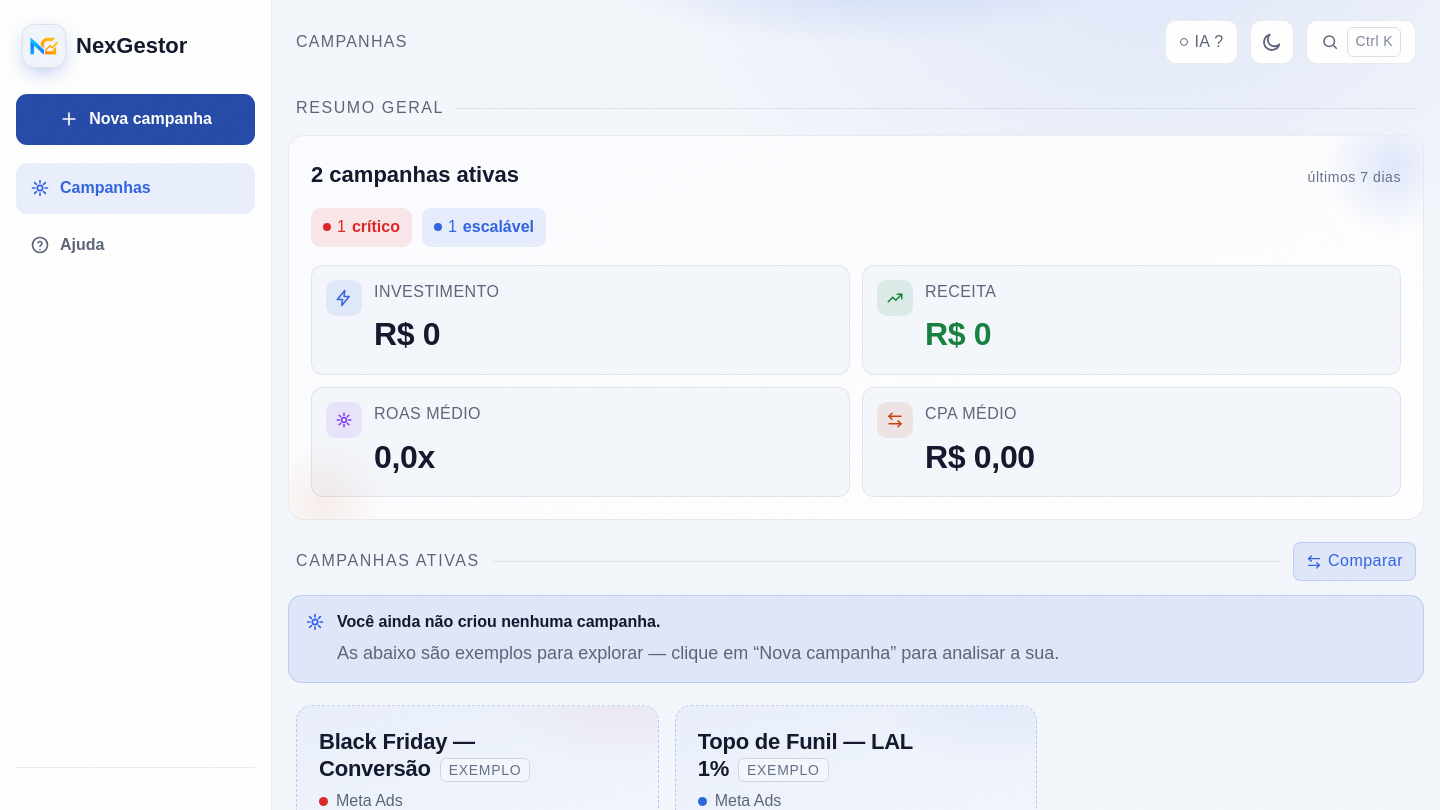
Test case: AC1/AC5 — a sidebar leva a criar campanha e à Ajuda › abre o formulário de nova campanha em UM clique, de qualquer tela
The image size is (1440, 810).
# A partir da Ajuda — o pior caso, porque não é a tela que tem o botão.
Step 1. Click the button "Ajuda" → (136, 245), box [16,220,255,270]
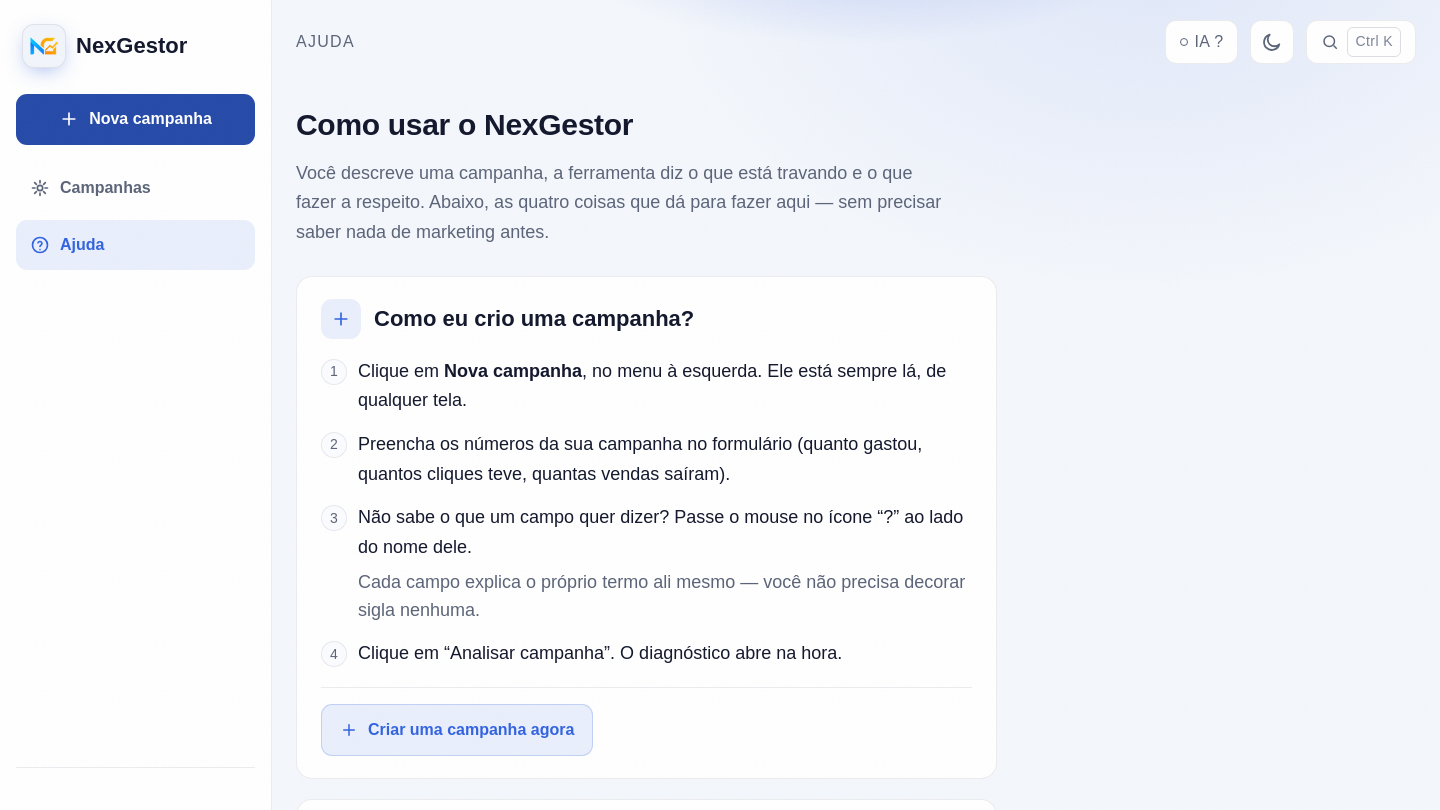
Step 2. Click the button "Nova campanha" → (136, 119), box [16,94,255,145]
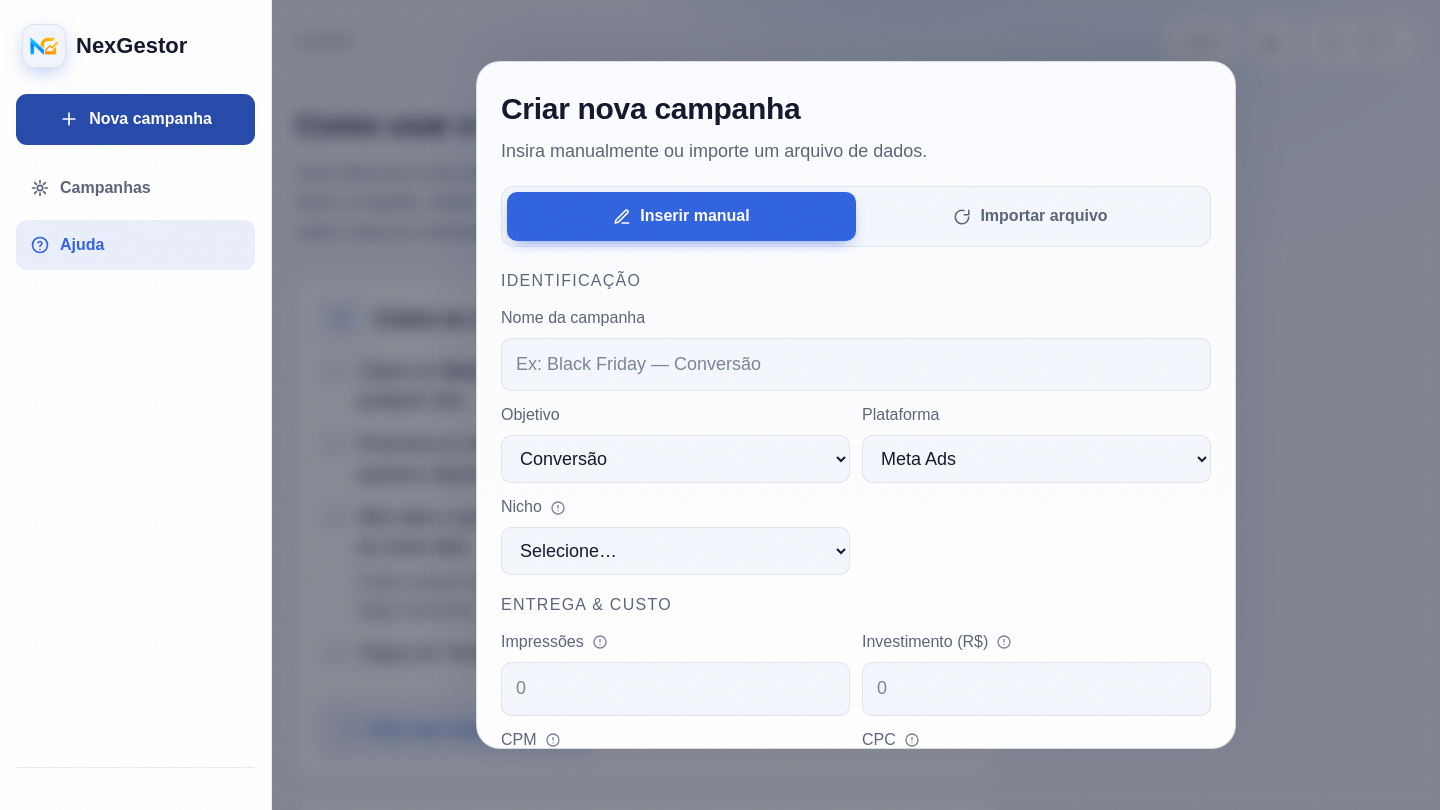
Expected: the heading "Criar nova campanha" is shown, [501,92,800,125]
